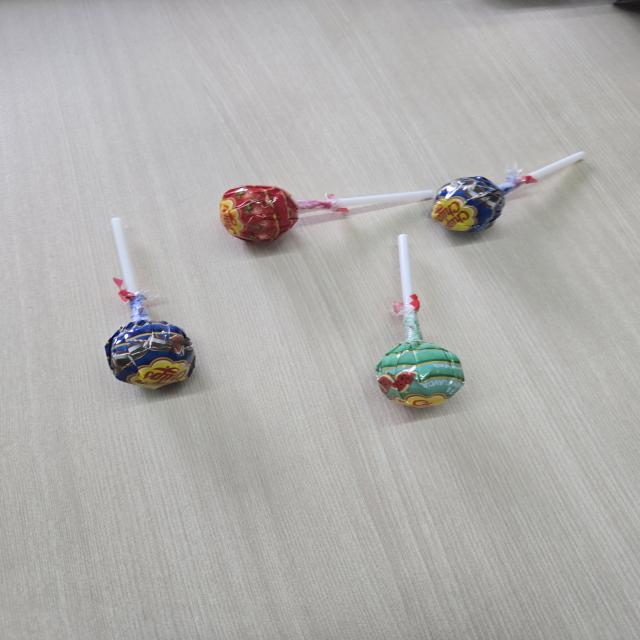lollipop: (98, 212, 203, 394), (370, 230, 467, 419), (214, 176, 436, 249), (428, 143, 586, 240)
